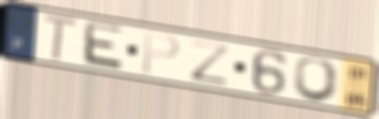6: (250, 48, 290, 97)
E: (79, 20, 126, 74)
O: (290, 56, 343, 105)
P: (139, 30, 182, 76)
T: (41, 11, 81, 64)
Z: (189, 39, 235, 87)
